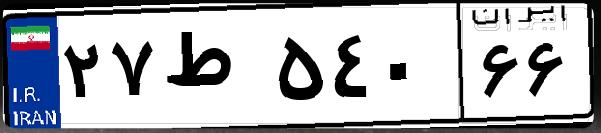0: (385, 28, 445, 110)
2: (57, 26, 110, 100)
4: (330, 28, 385, 110)
5: (270, 28, 330, 110)
6: (475, 38, 525, 113), (525, 38, 570, 115)
7: (110, 28, 158, 98)
ط: (158, 20, 270, 120)
